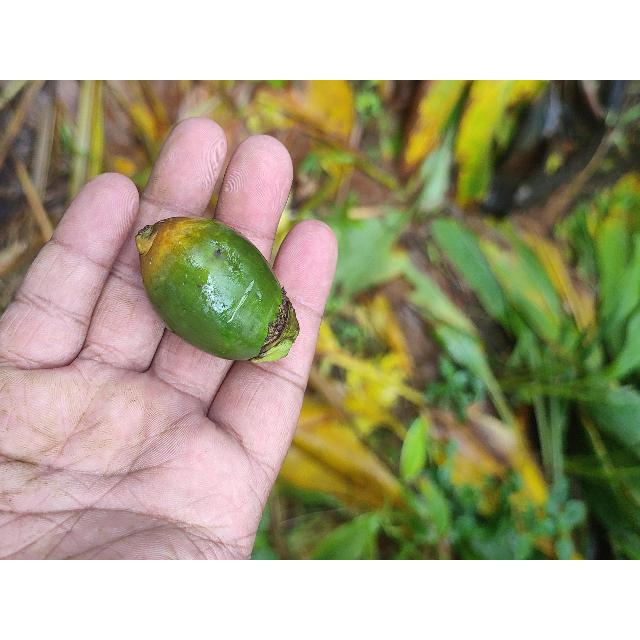good: (134, 217, 300, 363)
